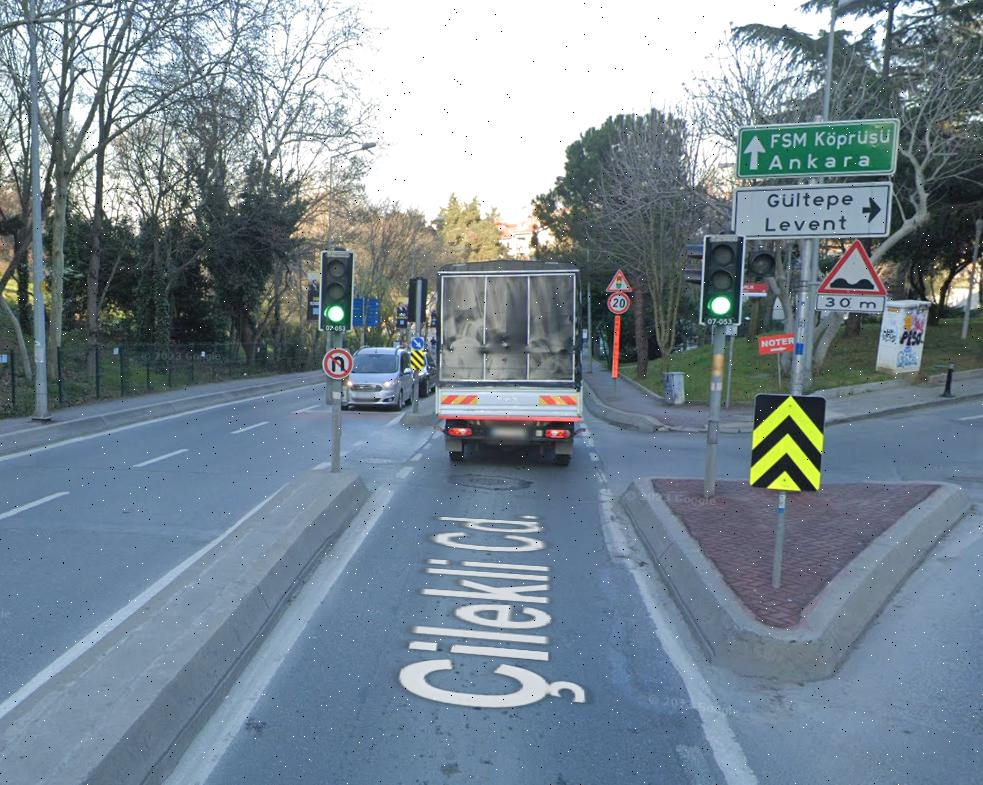greenlight: (702, 233, 734, 321), (321, 251, 353, 327)
